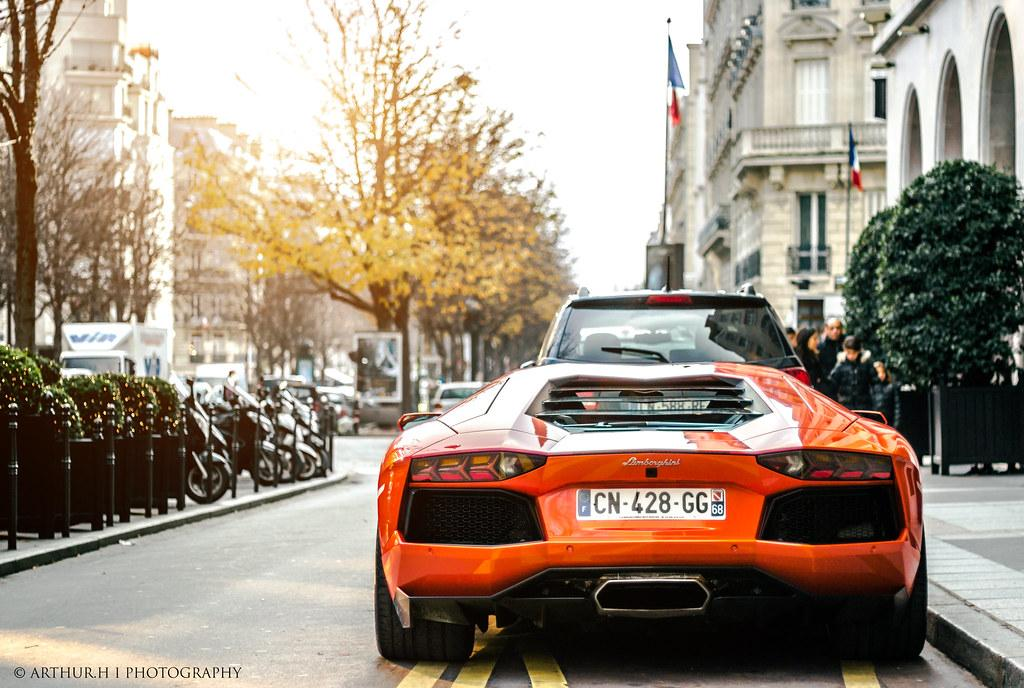car: (362, 358, 933, 685), (506, 280, 825, 444), (424, 371, 506, 423)
